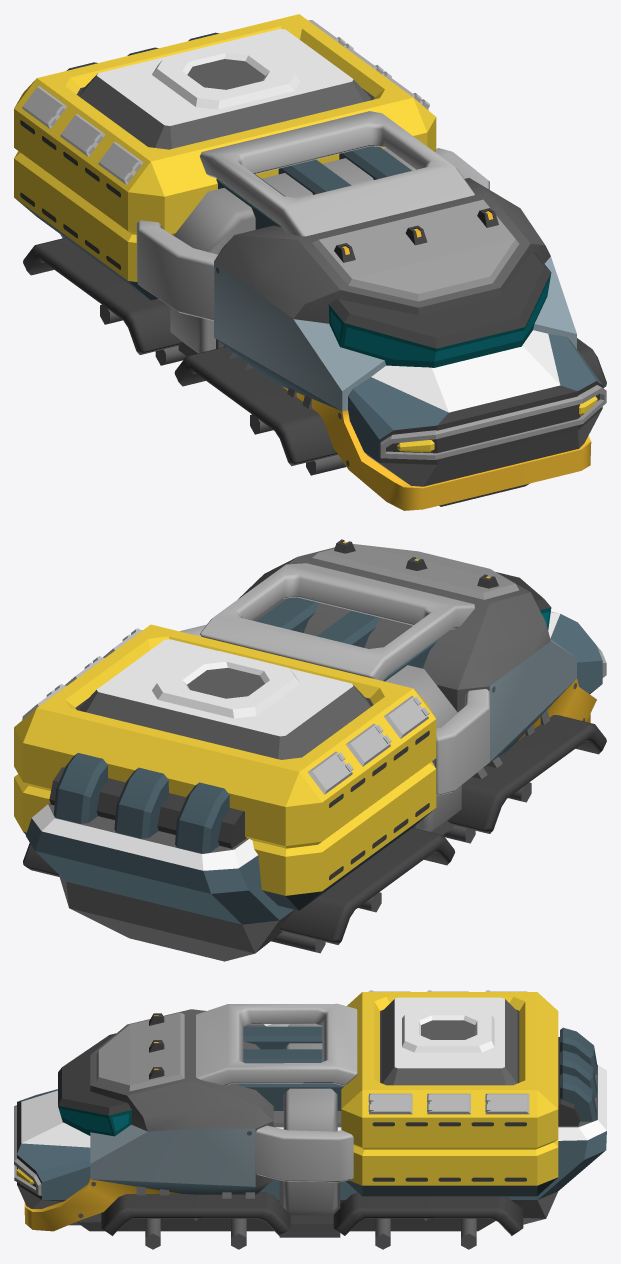
The model's file is transport_001.fbx.
3 renders of one model, top to bottom at view 1: azimuth 30°, elevation 25°; view 2: azimuth 150°, elevation 25°; view 3: azimuth 270°, elevation 25°, orthographic. The views are drawn at different scales.
Visible parts, largest first — view 1: transport_001; view 2: transport_001; view 3: transport_001.
Boxes of the visible parts, x1,y1,x2,y2 form: transport_001: [14, 14, 606, 510]; transport_001: [14, 539, 606, 961]; transport_001: [14, 990, 606, 1249].
Bounding box in the file's own units: 494 × 1041 × 366.
